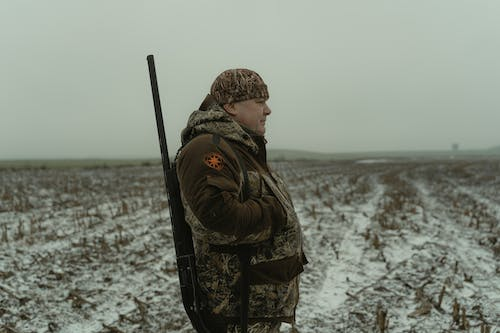gun: (145, 52, 197, 333)
